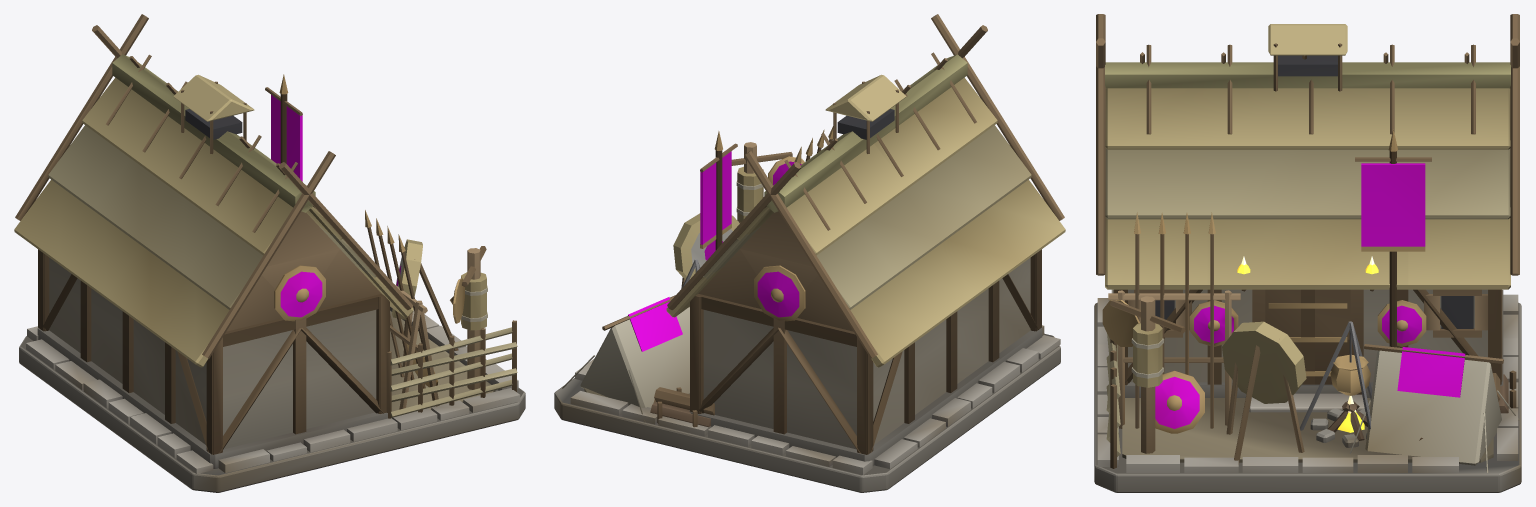
Rendered from barracks_antiquity.glb.
3 views of the same model, side by side, from view 1: azimuth 30°, elevation 25°; view 2: azimuth 150°, elevation 25°; view 3: azimuth 270°, elevation 25° (orthographic). The views are drawn at different scales.
Parts seen in each view (by area): view 1: Body; view 2: Body; view 3: Body.
Boxes of the visible parts, x1,y1,x2,y2 form: Body: (14, 14, 525, 492); Body: (554, 14, 1065, 492); Body: (1094, 14, 1521, 492).
Size of the model in its own units: 4.01 by 3.59 by 4.
1 material, 1 textured.
